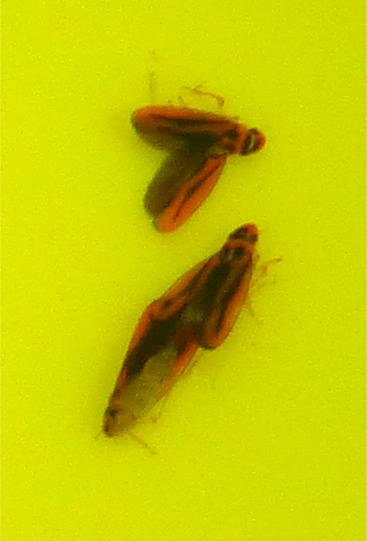Hemiptera: (127, 100, 267, 236), (143, 223, 262, 353), (100, 297, 206, 441)
